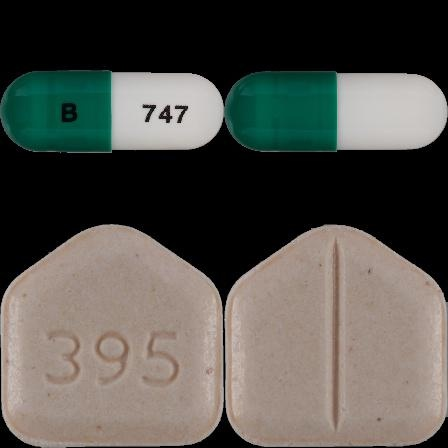61919-482: (0, 0, 224, 224)
